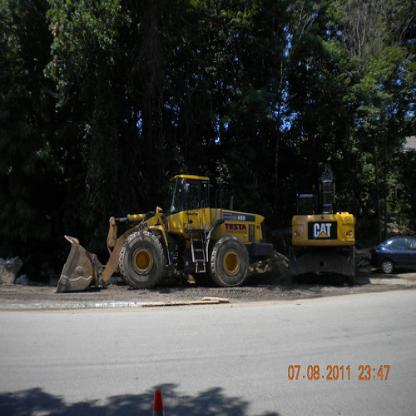bull_dozer/loader/grader: (51, 162, 274, 302)
